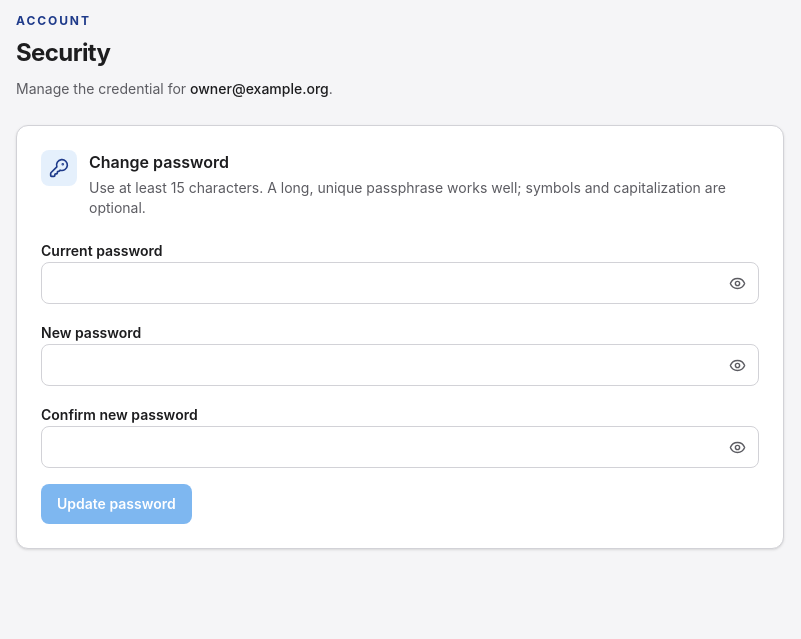
Scenario: AccountSecurity › requires a matching 15-character replacement before submission
The width and height of the screenshot is (801, 639).
Type "old password" into the password field labelled "Current password" at (400, 283), box left=41, top=262, right=759, bottom=304
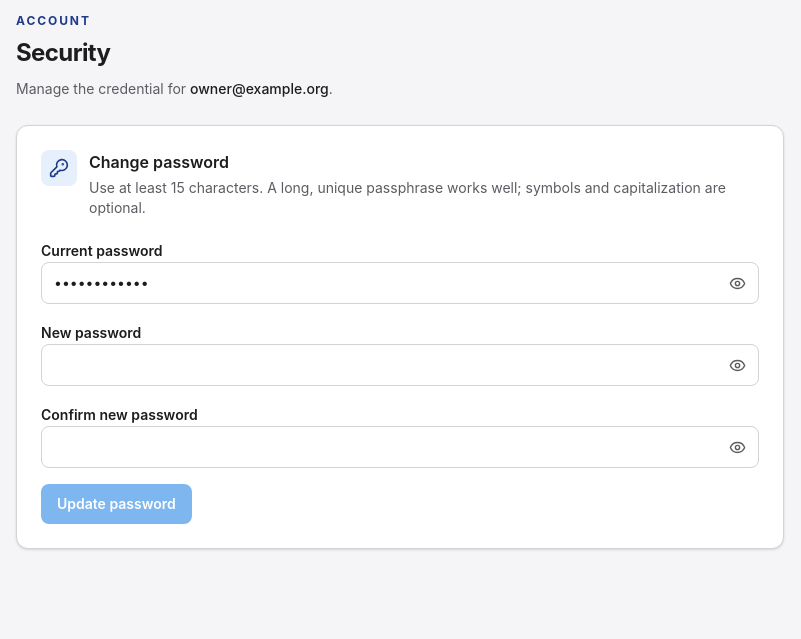
Type "too short" into the password field labelled "New password" at (400, 365), box left=41, top=344, right=759, bottom=386
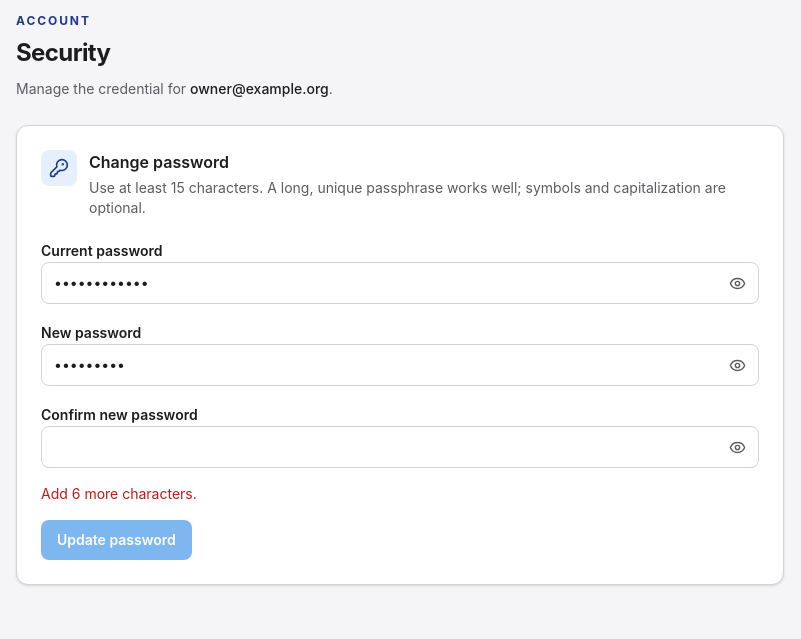
Type "different" into the password field labelled "Confirm new password" at (400, 447), box left=41, top=426, right=759, bottom=468
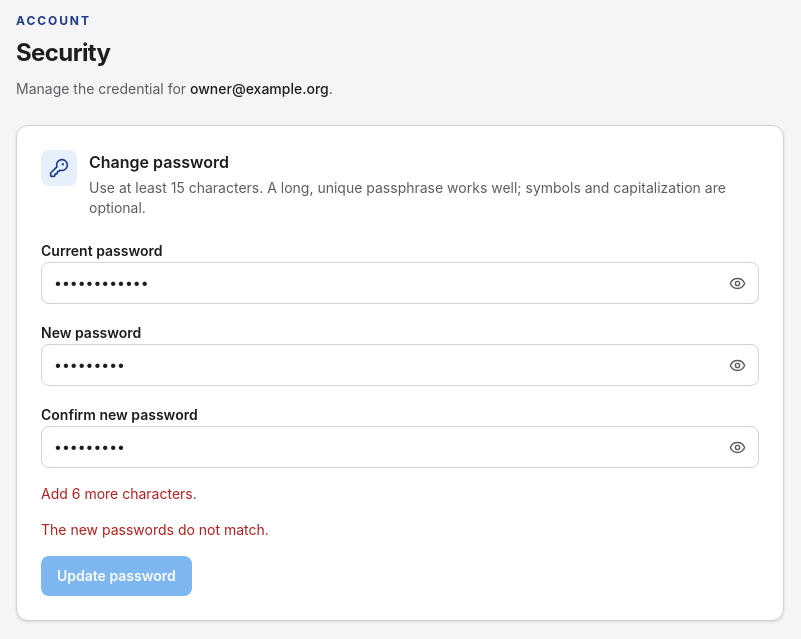
Expected: the button "Update password" is disabled, left=41, top=556, right=192, bottom=596
Expected: the text "Add 6 more characters." is shown, left=41, top=485, right=197, bottom=502
Expected: the text "The new passwords do not match." is shown, left=41, top=521, right=269, bottom=538
